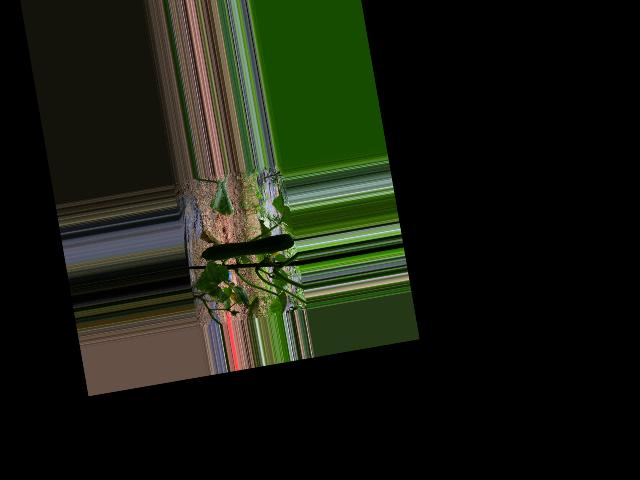cucumber: (197, 231, 294, 264)
